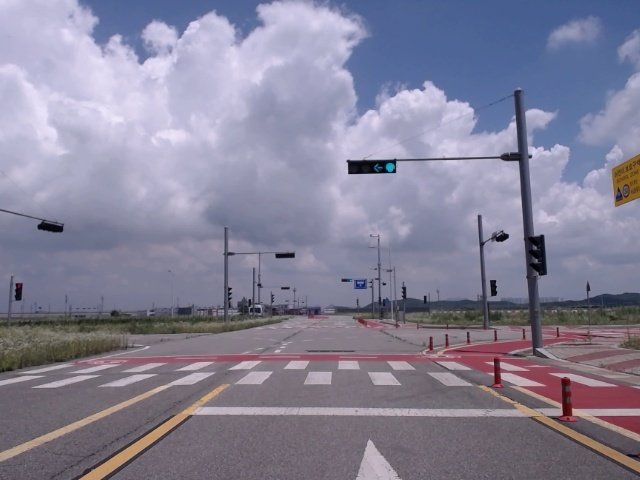all_green_4: (345, 161, 402, 175)
